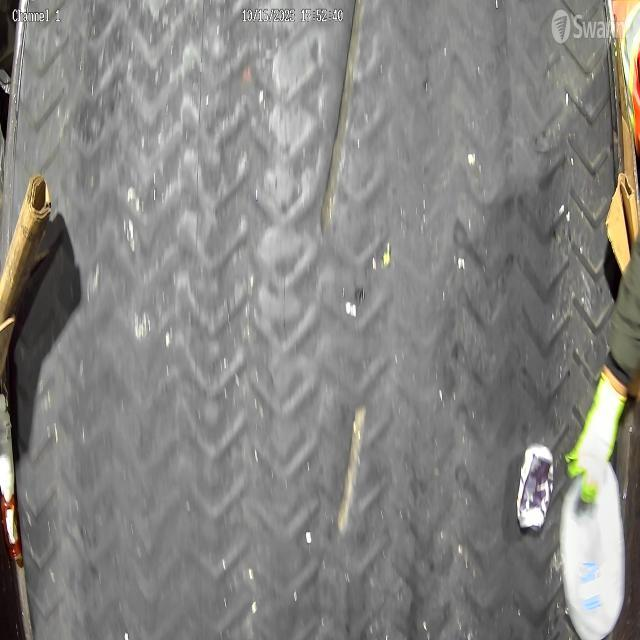can: (516, 443, 554, 532)
milk_jug: (560, 461, 627, 640)
